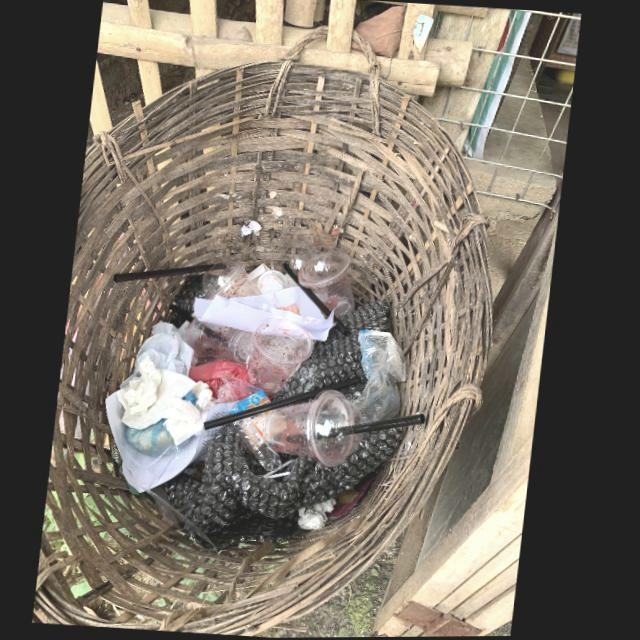paper: (108, 391, 242, 493), (196, 287, 338, 341)
plastic_bag: (357, 329, 408, 423)
plastic_container: (267, 391, 366, 469), (250, 318, 316, 396), (300, 245, 357, 315), (190, 318, 256, 364), (205, 261, 264, 299)
